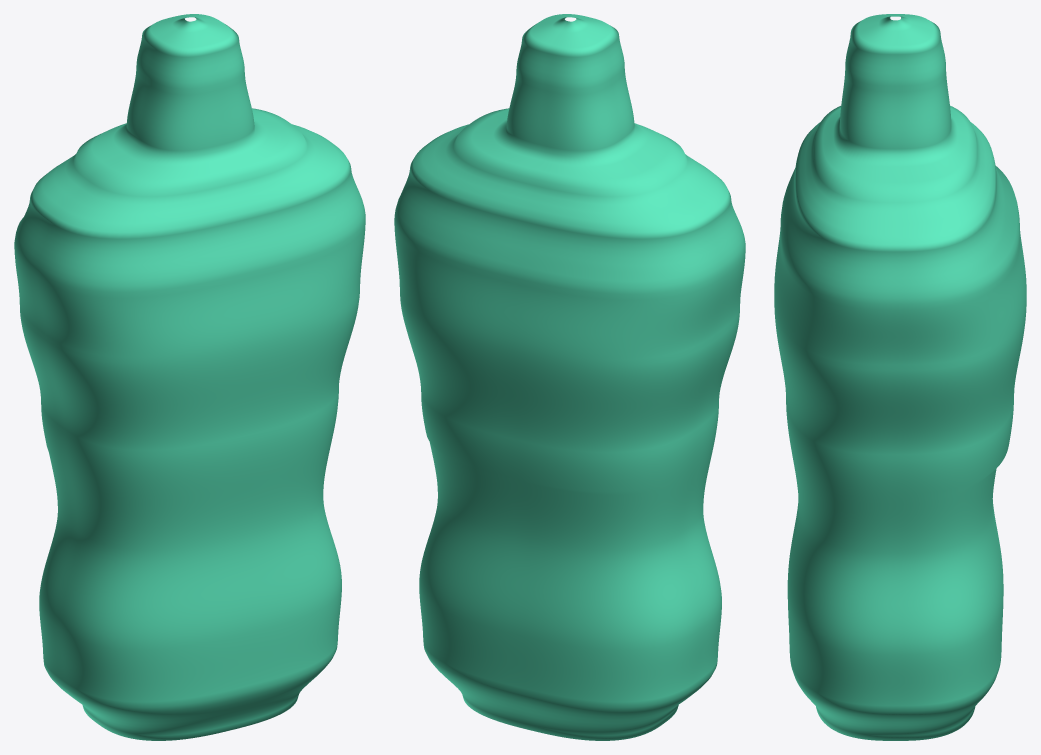
Rendered from DummyTorso.gltf.
3 views of the same model, side by side, from view 1: azimuth 30°, elevation 25°; view 2: azimuth 150°, elevation 25°; view 3: azimuth 270°, elevation 25° (orthographic).
Visible parts, largest first — view 1: DummyTorso; view 2: DummyTorso; view 3: DummyTorso.
Part boxes in pixels (box(x1,y1,x2,y2)): DummyTorso: box(14, 14, 365, 740); DummyTorso: box(394, 14, 745, 740); DummyTorso: box(774, 14, 1026, 740).
Size of the model in its own units: 0.3999 by 0.86 by 0.2807.
